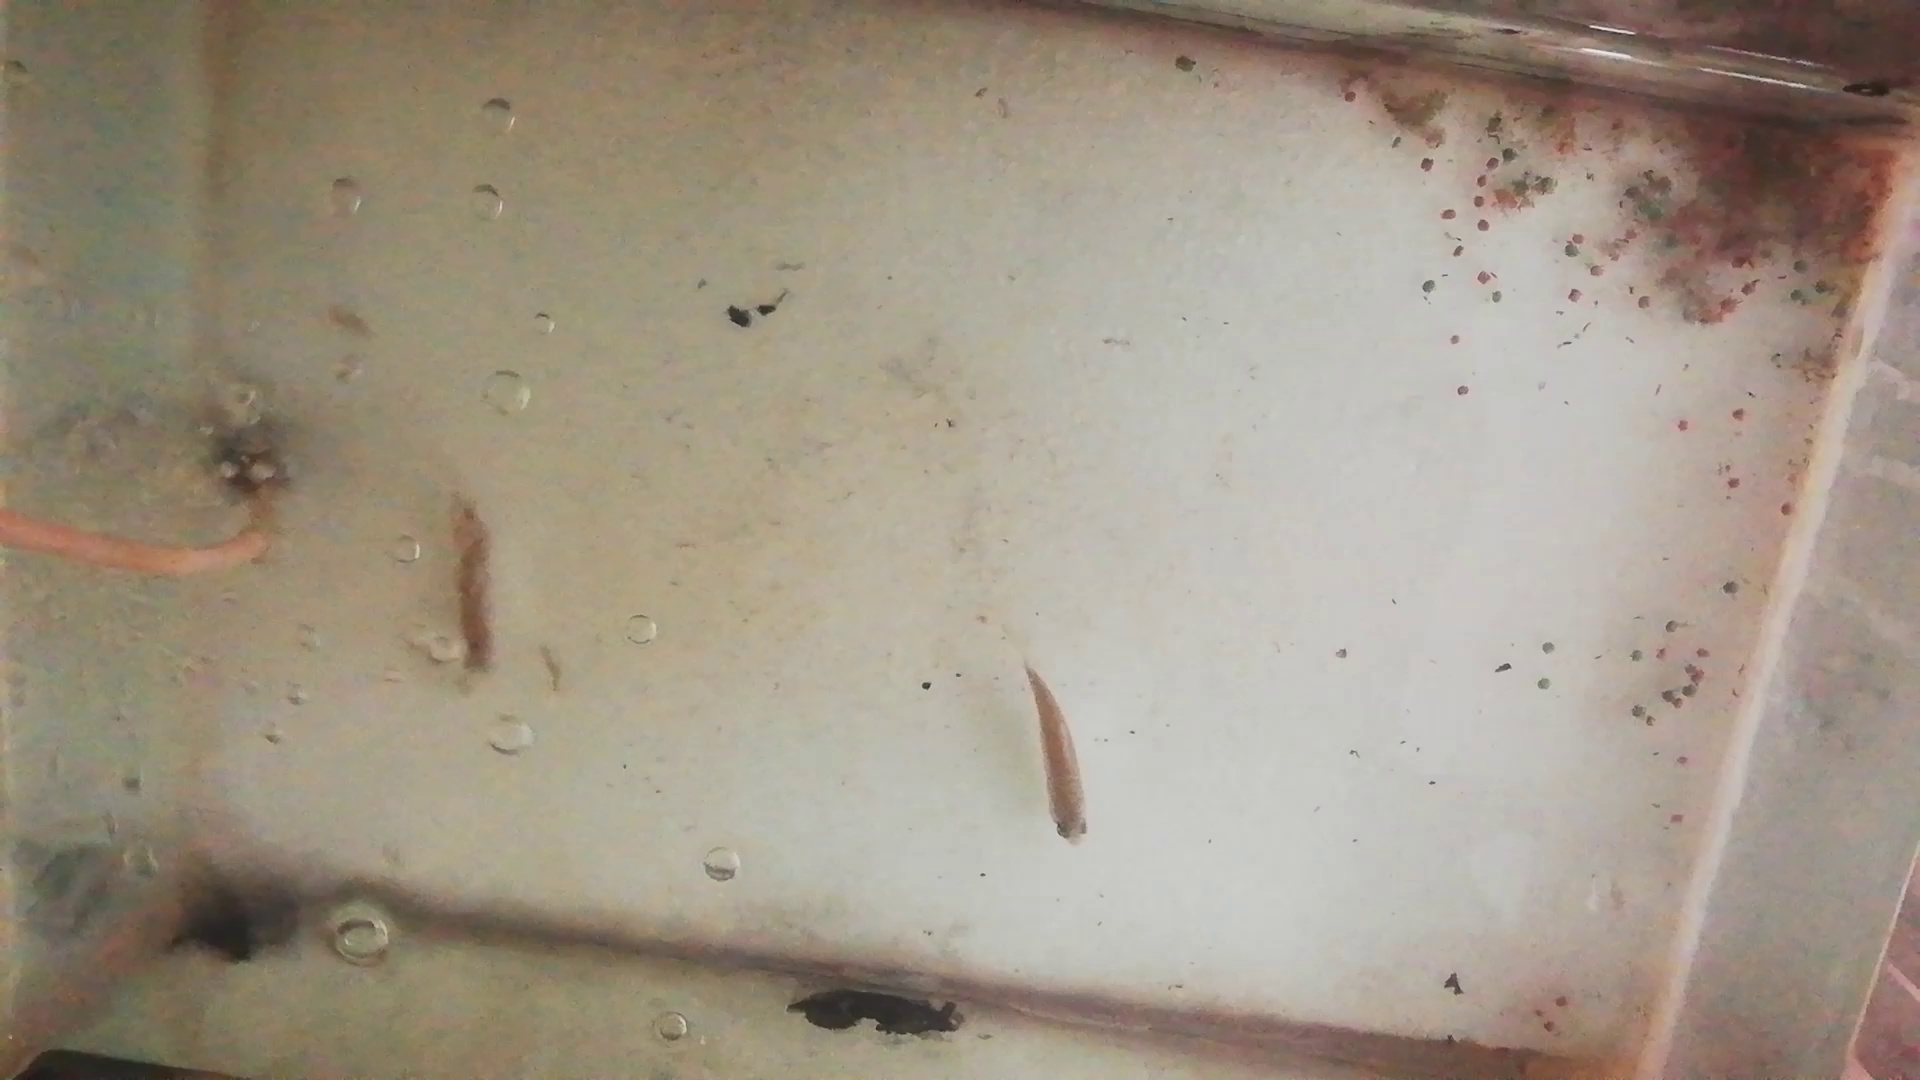fish: (1022, 659, 1089, 845), (443, 489, 496, 680)
